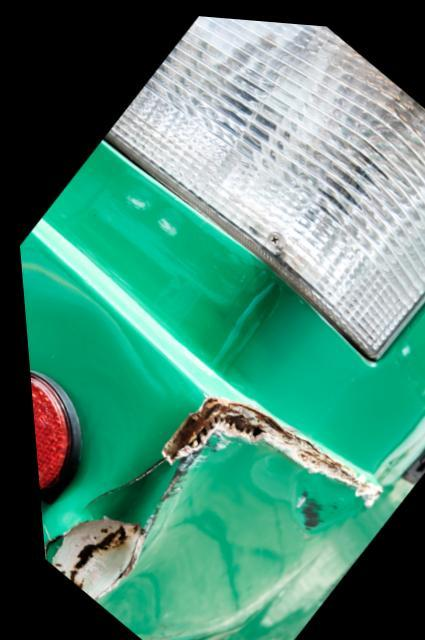crack: (150, 388, 376, 501)
dent: (40, 434, 328, 640), (191, 253, 301, 384)
